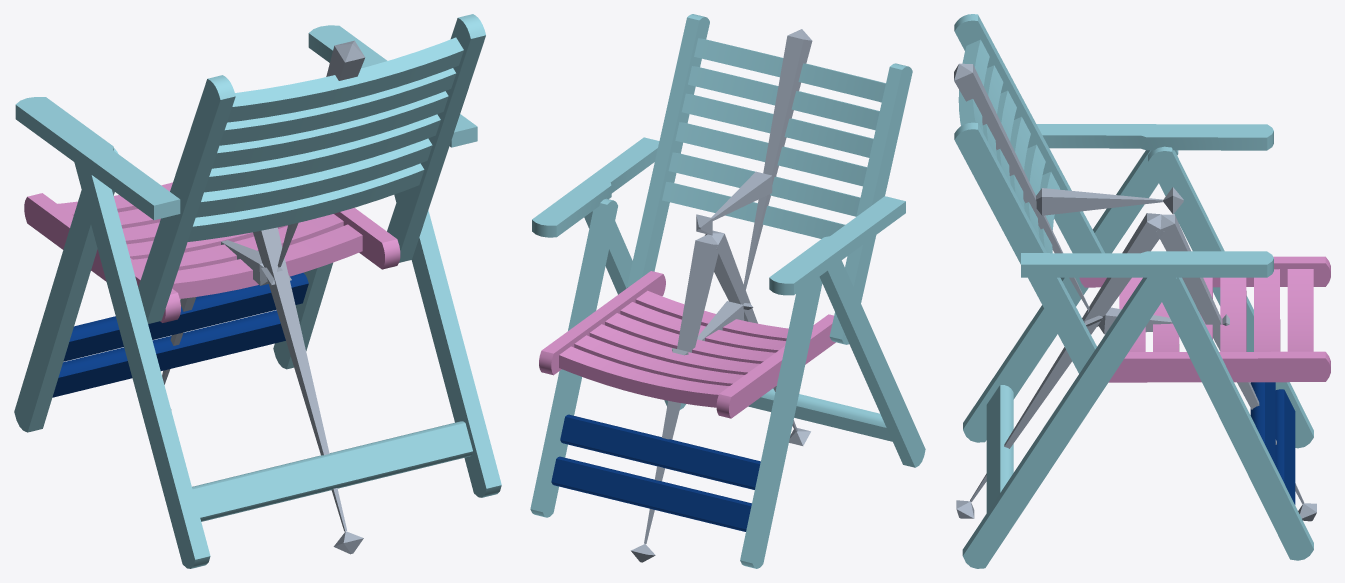
3 views of the same model, side by side, from view 1: azimuth 30°, elevation 25°; view 2: azimuth 150°, elevation 25°; view 3: azimuth 270°, elevation 25° (orthographic). The views are drawn at different scales.
Visible parts, largest first — view 1: Box006, Box034, Box013, Box024, Box031, Box025, Box032, Bone039, Box026, Box030, Bone031, Bone035; view 2: Box006, Box013, Box034, Box024, Box031, Box032, Box030, Box025, Box026, Bone031, Bone033, Bone039 (+2 smaller); view 3: Box034, Box006, Box013, Box030, Box026, Box025, Box024, Bone039, Bone031, Bone033, Bone037, Box031 (+2 smaller).
Boxes of the visible parts, x1=… form: Box006: x1=138, y1=14, x2=485, y2=323; Box034: x1=74, y1=162, x2=501, y2=568; Box013: x1=24, y1=182, x2=400, y2=322; Box024: x1=14, y1=148, x2=118, y2=432; Box031: x1=52, y1=310, x2=285, y2=397; Box025: x1=15, y1=97, x2=180, y2=220; Box032: x1=63, y1=272, x2=308, y2=361; Bone039: x1=253, y1=227, x2=346, y2=531; Box026: x1=308, y1=25, x2=477, y2=147; Box030: x1=273, y1=262, x2=332, y2=369; Bone031: x1=277, y1=40, x2=365, y2=267; Bone035: x1=221, y1=240, x2=268, y2=285; Box006: x1=627, y1=14, x2=912, y2=344; Box013: x1=539, y1=271, x2=835, y2=418; Box034: x1=584, y1=211, x2=925, y2=467; Box024: x1=740, y1=277, x2=822, y2=568; Box031: x1=551, y1=456, x2=751, y2=531; Box032: x1=560, y1=414, x2=760, y2=489; Box030: x1=530, y1=198, x2=617, y2=517; Box025: x1=769, y1=196, x2=905, y2=295; Box026: x1=532, y1=137, x2=659, y2=237; Bone031: x1=743, y1=29, x2=812, y2=289; Bone033: x1=644, y1=234, x2=720, y2=543; Bone039: x1=704, y1=230, x2=797, y2=431; Box034: x1=962, y1=150, x2=1178, y2=568; Box006: x1=954, y1=14, x2=1104, y2=373; Box013: x1=1079, y1=256, x2=1330, y2=382; Box030: x1=1162, y1=277, x2=1313, y2=560; Box026: x1=1021, y1=251, x2=1273, y2=277; Box025: x1=1036, y1=124, x2=1273, y2=150; Box024: x1=1148, y1=146, x2=1313, y2=448; Bone039: x1=970, y1=213, x2=1164, y2=501; Bone031: x1=954, y1=63, x2=1089, y2=309; Bone033: x1=1156, y1=214, x2=1304, y2=503; Bone037: x1=1036, y1=188, x2=1162, y2=215; Box031: x1=1275, y1=389, x2=1295, y2=504.
Bounding box in the file's own units: 63.46 × 96.31 × 71.96.
